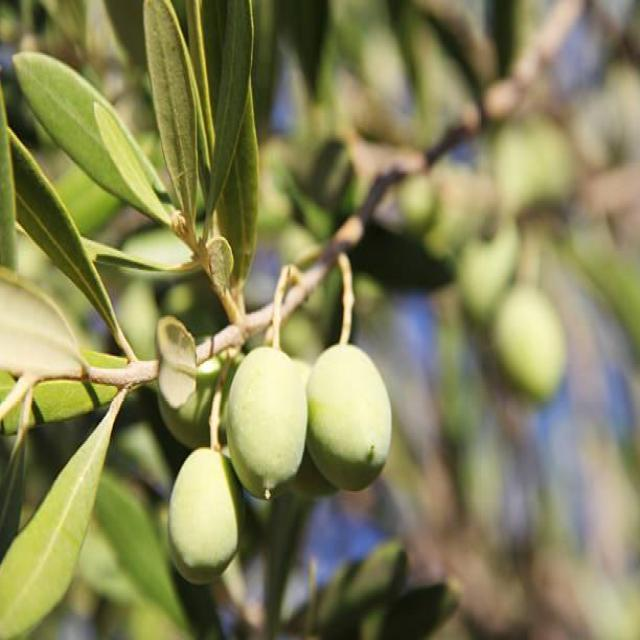Healthy: (0, 386, 131, 638), (224, 347, 310, 499), (306, 344, 391, 489), (167, 447, 246, 582)
